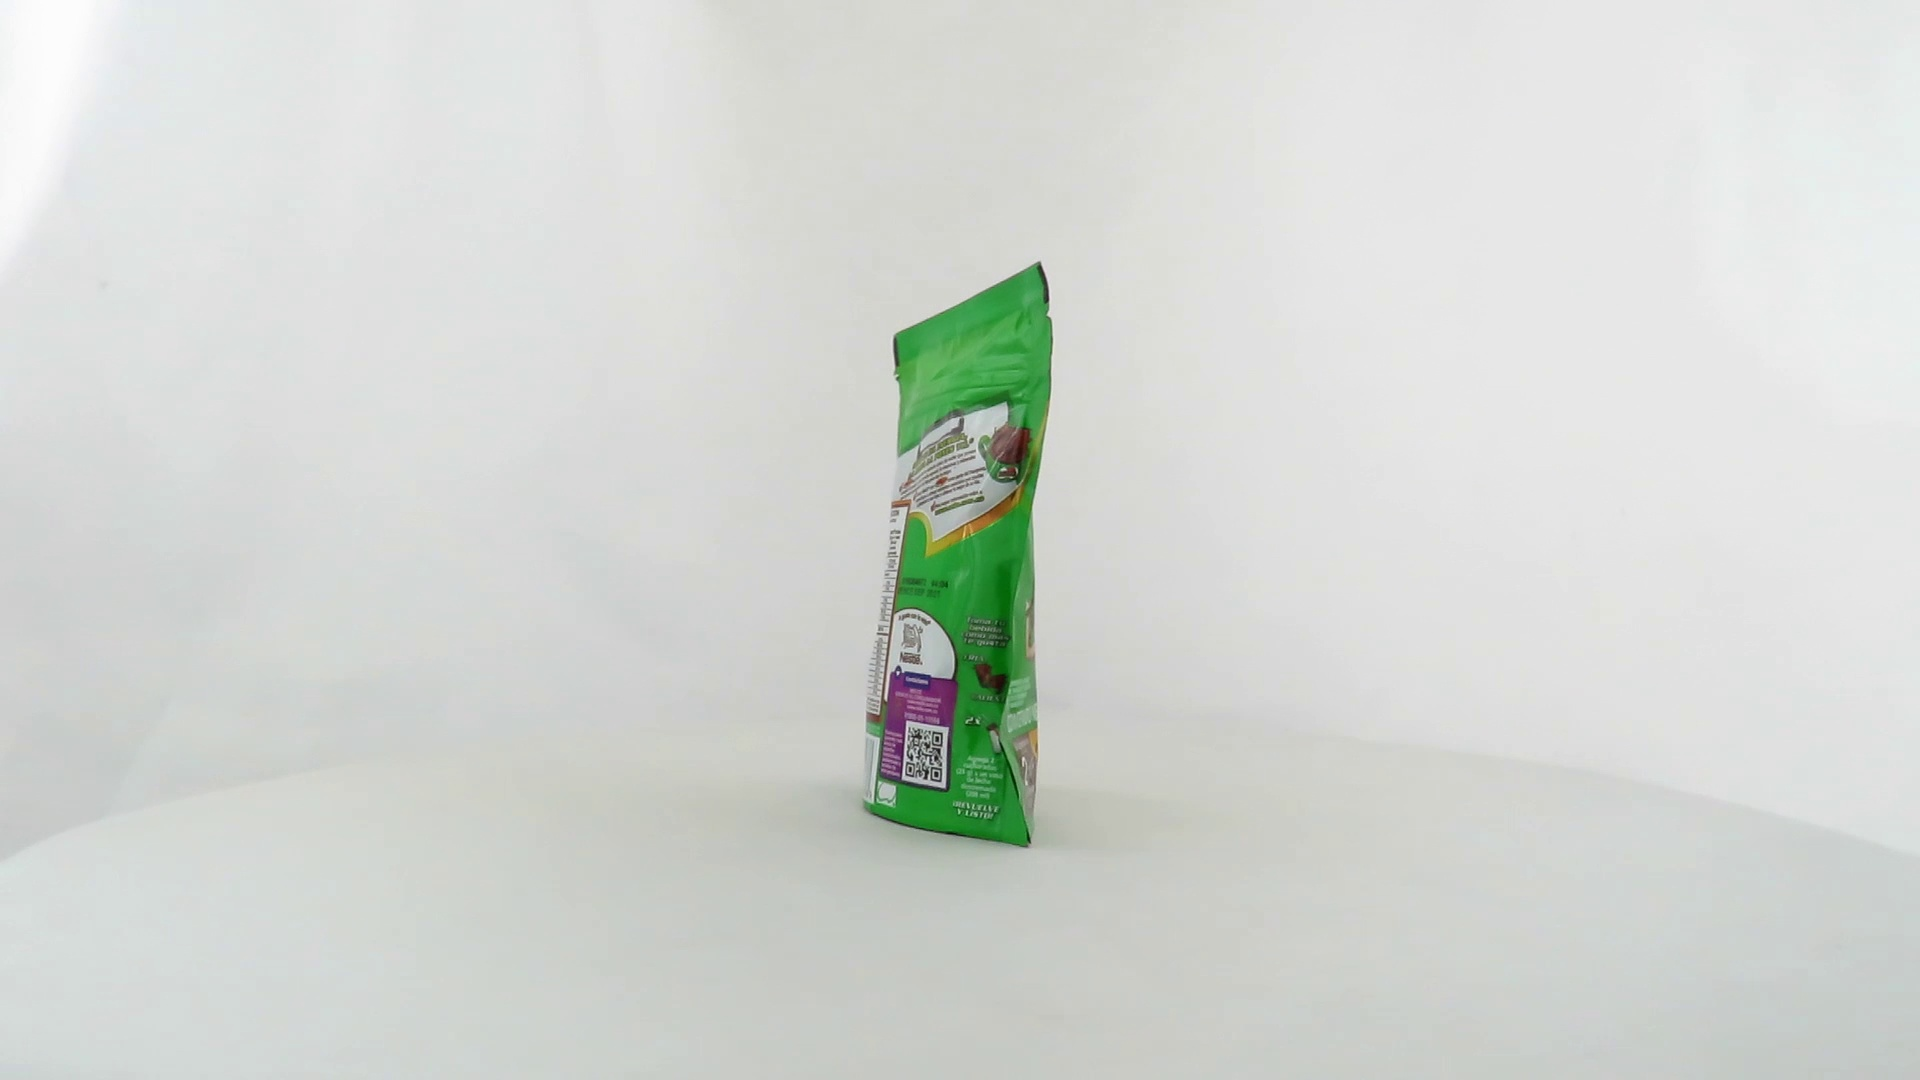COL0170203DYP10000: (829, 256, 1059, 856)
